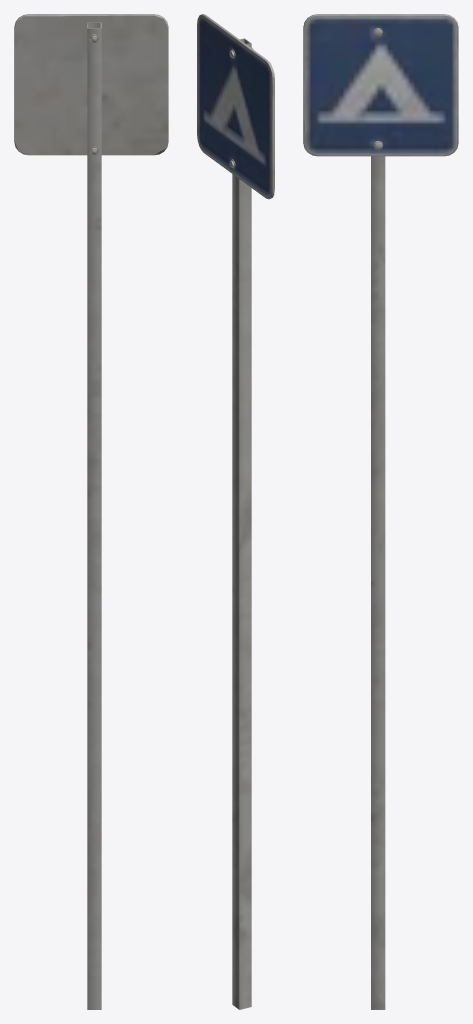
The model's file is sign-camping.lod0.glb.
3 renders of one model, left to right at view 1: azimuth 90°, elevation 25°; view 2: azimuth 210°, elevation 25°; view 3: azimuth 270°, elevation 25°, orthographic. The views are drawn at different scales.
Visible parts, largest first — view 1: kenping_LOW_POLY_sign_0; view 2: kenping_LOW_POLY_sign_0; view 3: kenping_LOW_POLY_sign_0.
Part boxes in pixels (box(x1,y1,x2,y2)): kenping_LOW_POLY_sign_0: box(14, 14, 168, 1009); kenping_LOW_POLY_sign_0: box(197, 14, 274, 1009); kenping_LOW_POLY_sign_0: box(303, 14, 458, 1009).
Size of the model in its own units: 0.0606 by 2.6 by 0.3675.
Materials: 1 (1 with a texture image).
